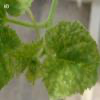Tomato leaf mosaic virus: (44, 22, 98, 98)
